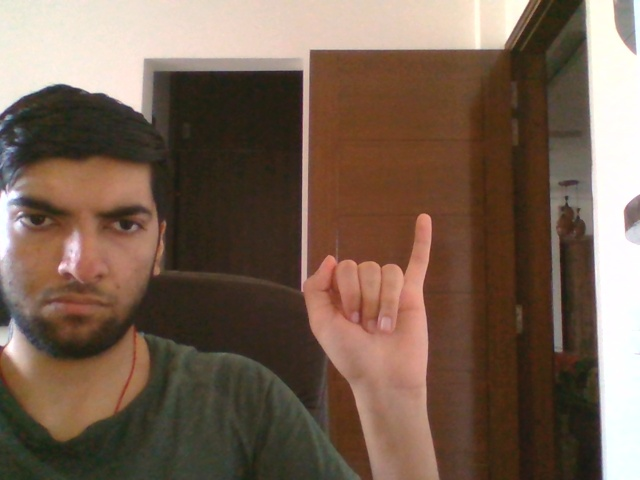LetterI: (303, 211, 433, 398)
